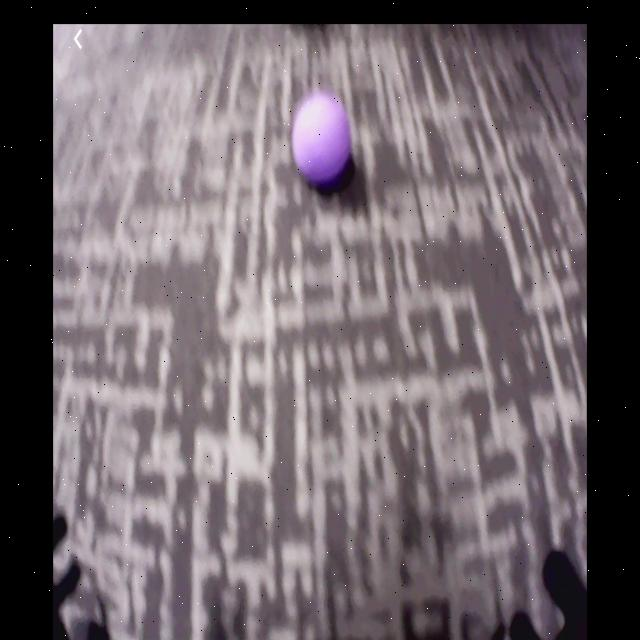ball: (294, 98, 349, 182)
